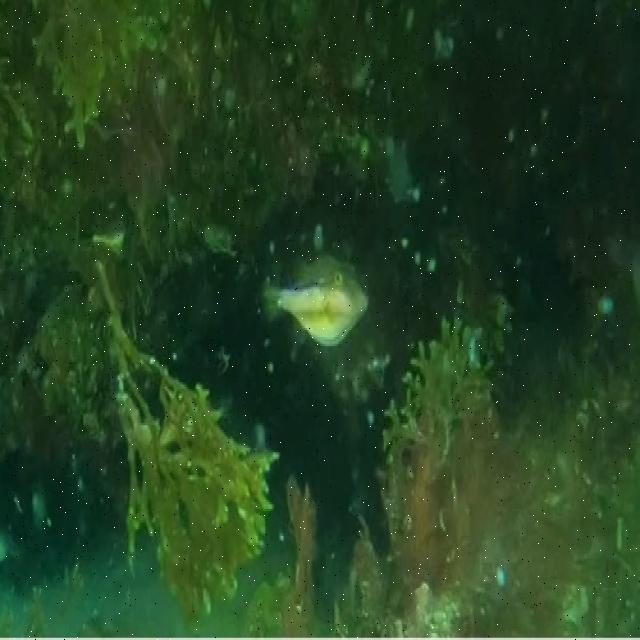Balik: (265, 256, 368, 346)
